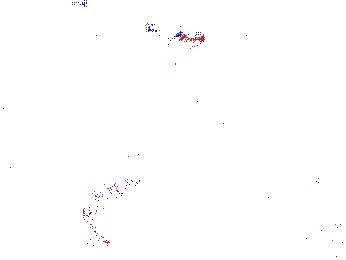glassfish: (83, 175, 143, 239), (210, 120, 293, 158)
red belly glassfish: (158, 26, 204, 50), (117, 18, 169, 38), (147, 60, 182, 74)
